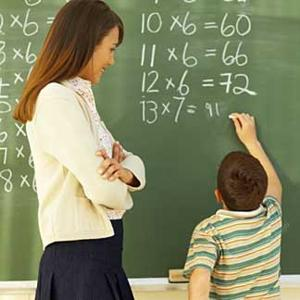person: (186, 113, 284, 300)
